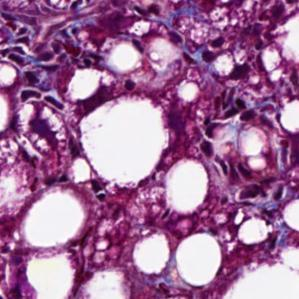inflammation: (4, 23, 81, 79), (170, 32, 250, 83), (15, 102, 83, 162), (194, 94, 245, 154), (217, 181, 273, 226)
